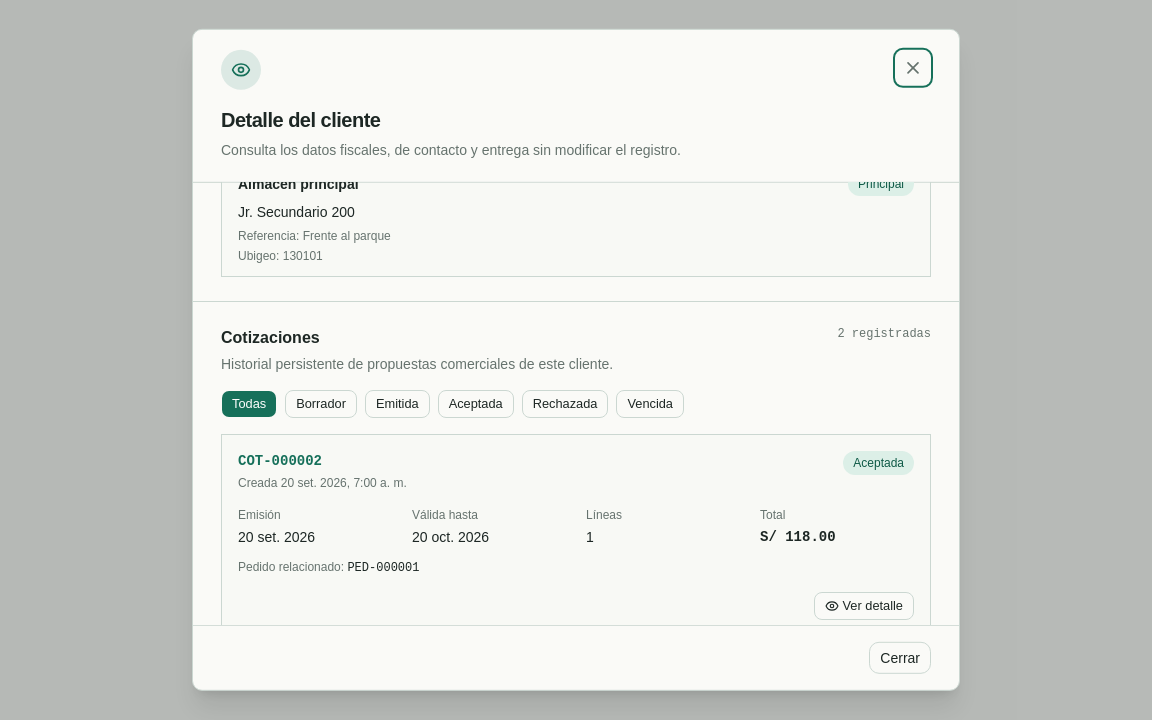
Test: DetalleCliente › lista varias cotizaciones, filtra vencidas y abre el detalle persistente
(page scrolled)
Check: the text "COT-000002" is shown, box [238,453,322,469]
Check: the text "PED-000001" is shown, box [347,561,419,575]
Click the button "Vencida" at (650, 404), box [616,390,684,418]
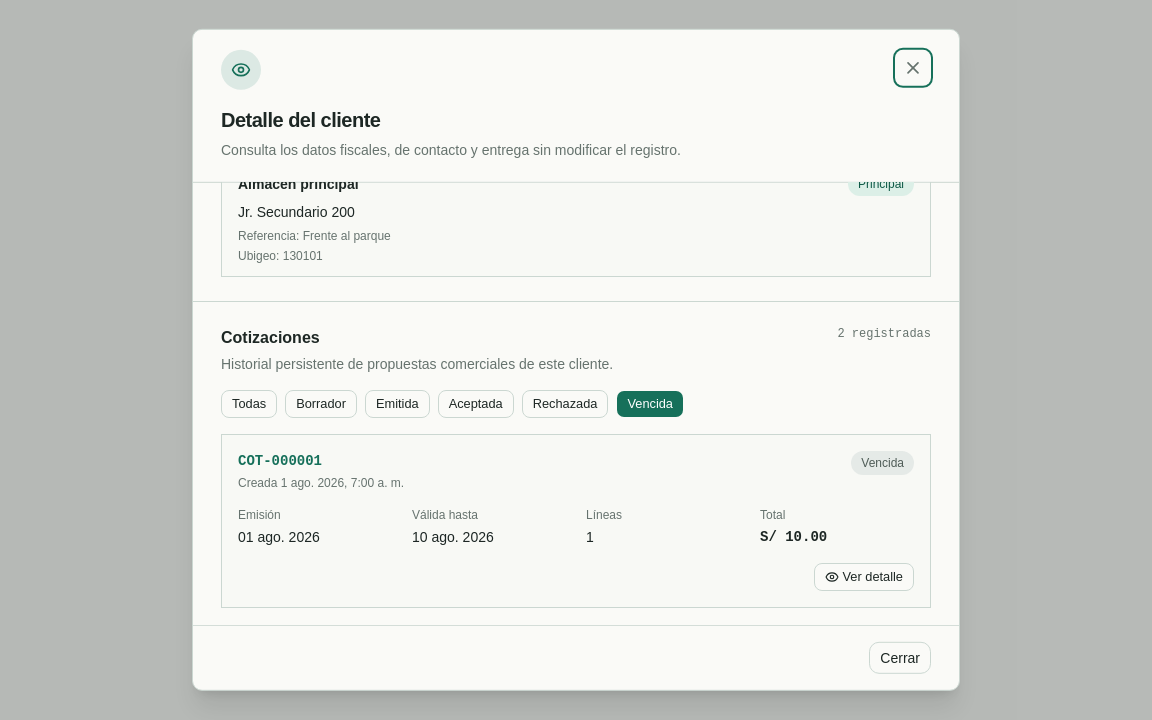
Check: the text "COT-000001" is shown, box [238,453,322,469]
Check: the text "COT-000002" is gone
Click the button "Ver detalle" at (864, 577), box [814,563,914,591]
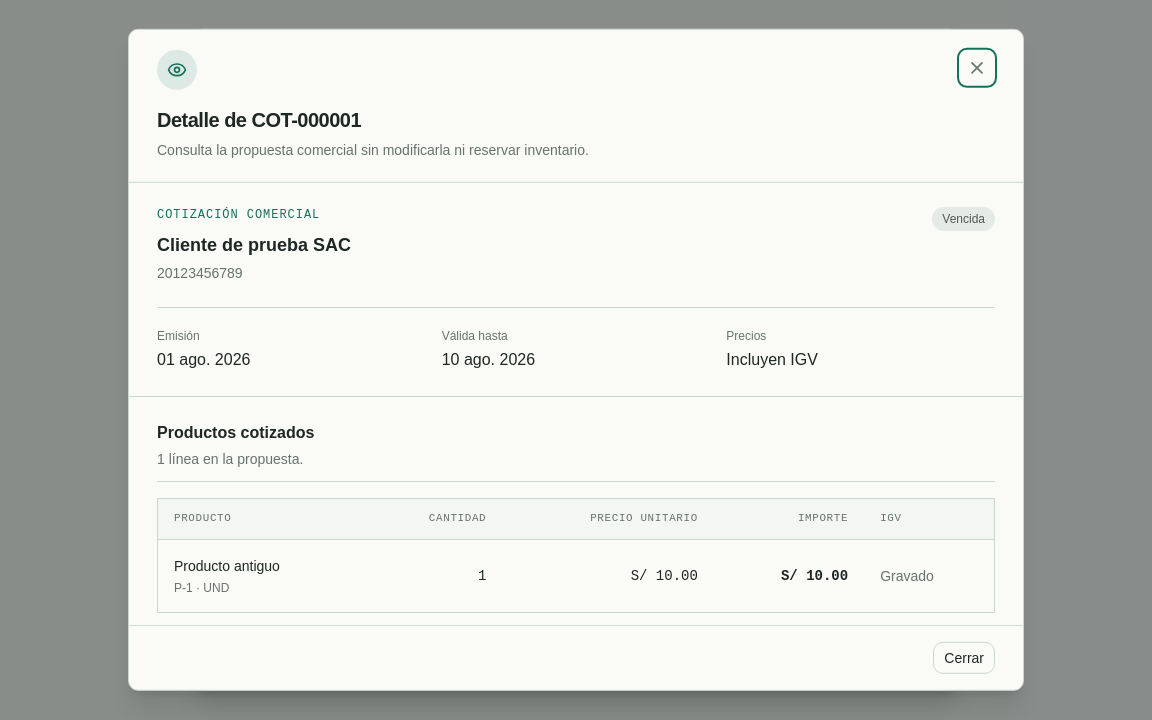
Check: the dialog "Detalle de COT-000001" is shown
Check: the text "Producto antiguo" is shown, box [174,557,280,573]
